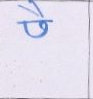ai_matra: (18, 0, 48, 18)
